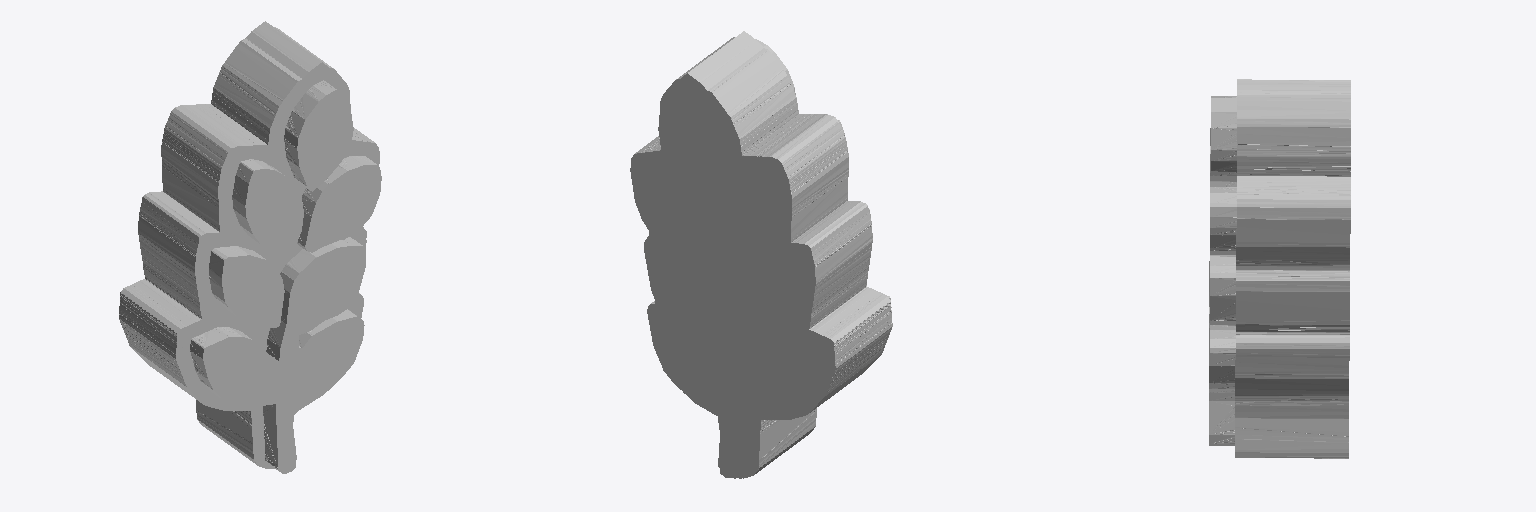
File: Wheat.obj
3 views of the same model, side by side, from view 1: azimuth 30°, elevation 25°; view 2: azimuth 150°, elevation 25°; view 3: azimuth 270°, elevation 25° (orthographic).
Visible parts, largest first — view 1: wheat; view 2: wheat; view 3: wheat.
Boxes of the visible parts, x1,y1,x2,y2 form: wheat: [119, 21, 381, 473]; wheat: [630, 31, 892, 478]; wheat: [1209, 79, 1350, 458].
Size of the model in its own units: 1.55 by 2.87 by 0.9366.